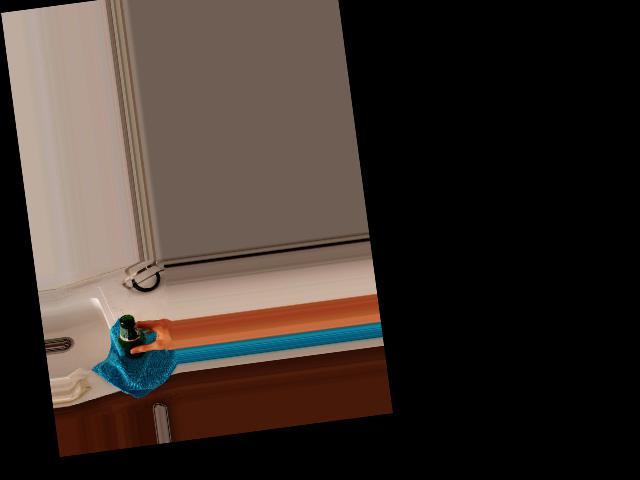beer: (115, 314, 146, 361)
